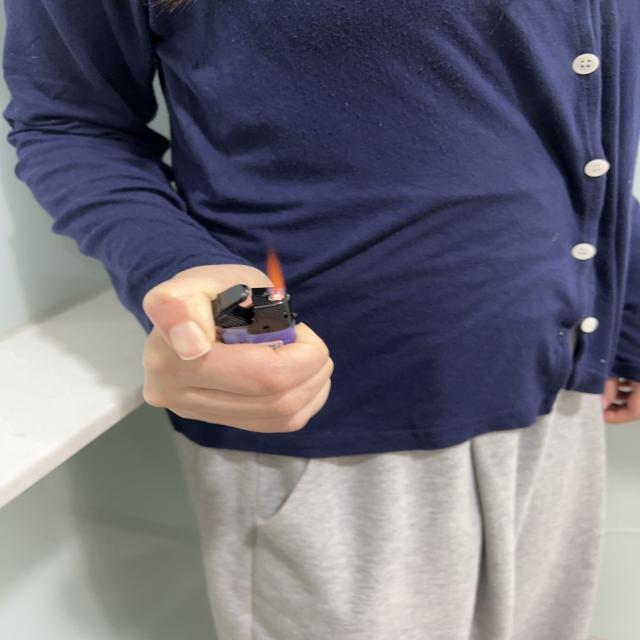fire: (263, 249, 290, 299)
